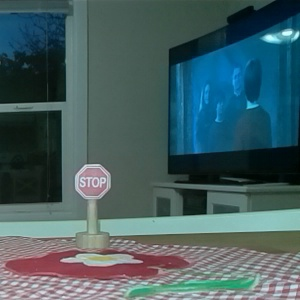stop sign: (73, 161, 113, 249)
